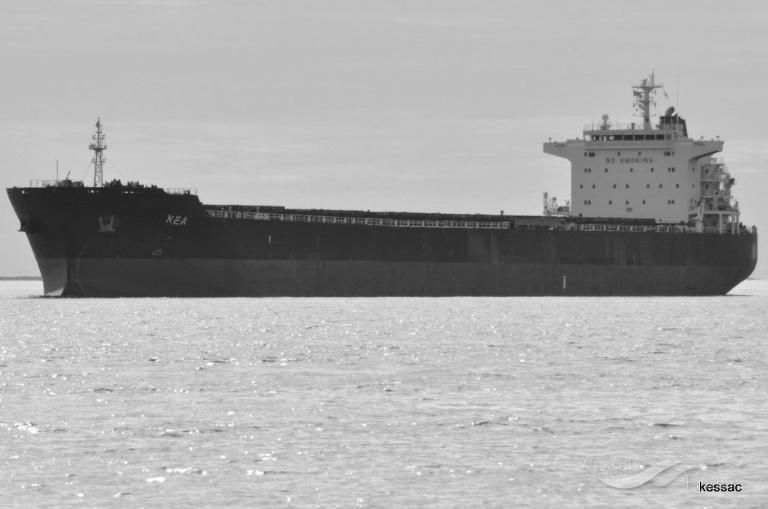OCR: (166, 212, 195, 232)
